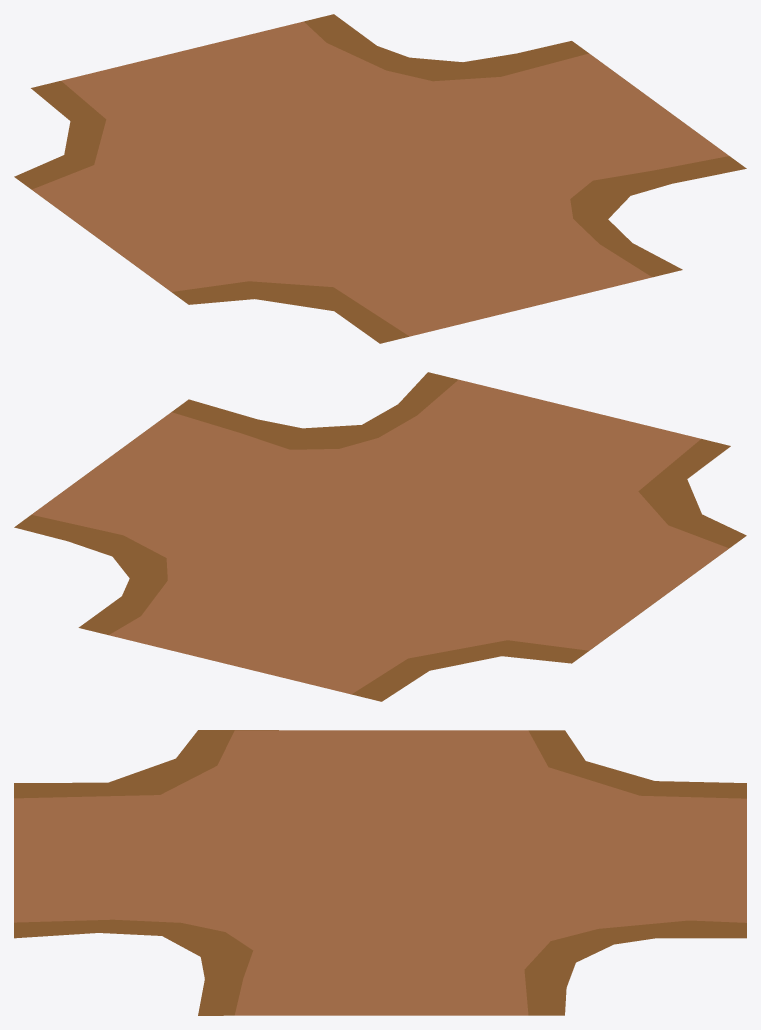
File: dirt_road_X_cross.fbx
The picture shows the model from 3 angles, top to bottom: view 1: azimuth 30°, elevation 25°; view 2: azimuth 150°, elevation 25°; view 3: azimuth 270°, elevation 25°; orthographic projection. The views are drawn at different scales.
Parts seen in each view (by area): view 1: dirt_road_X_cross.001; view 2: dirt_road_X_cross.001; view 3: dirt_road_X_cross.001.
Part boxes in pixels (<box>): dirt_road_X_cross.001: <box>14,14,746,343</box>; dirt_road_X_cross.001: <box>14,372,746,701</box>; dirt_road_X_cross.001: <box>14,730,746,1015</box>.
Bounding box in the file's own units: 184 × 3.25e-05 × 200.
